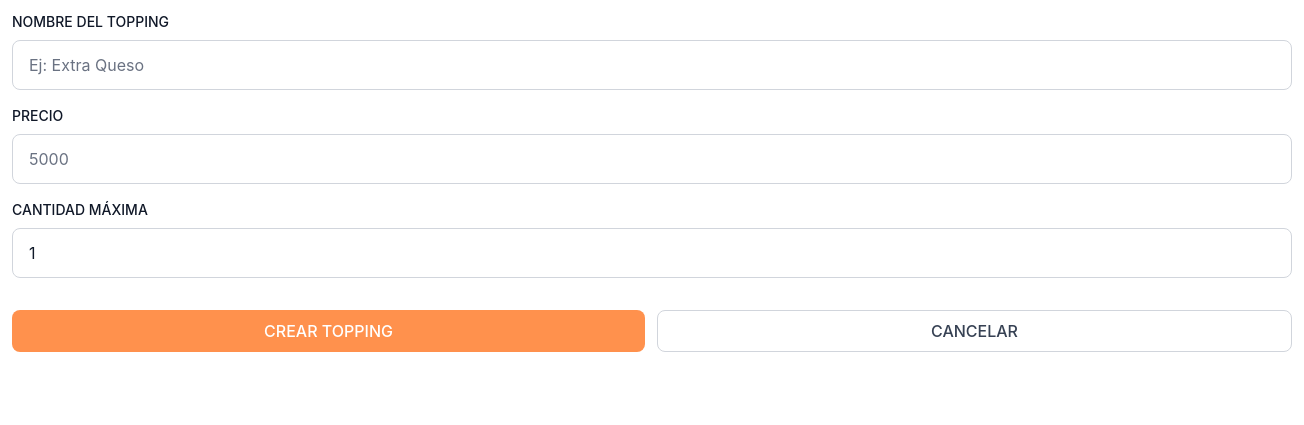
Scenario: CreateToppingForm › should validate minimum name length
Type "AB" into the field labelled "NOMBRE DEL TOPPING". click: (652, 65)
box: [12, 40, 1292, 90]
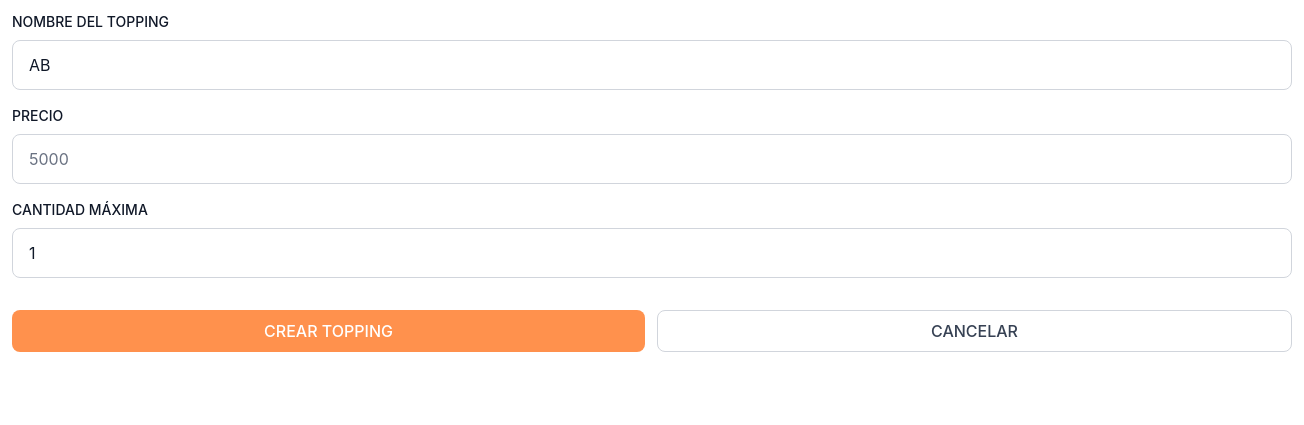
Click the button "CREAR TOPPING". click: (328, 331)
box: [12, 310, 645, 352]
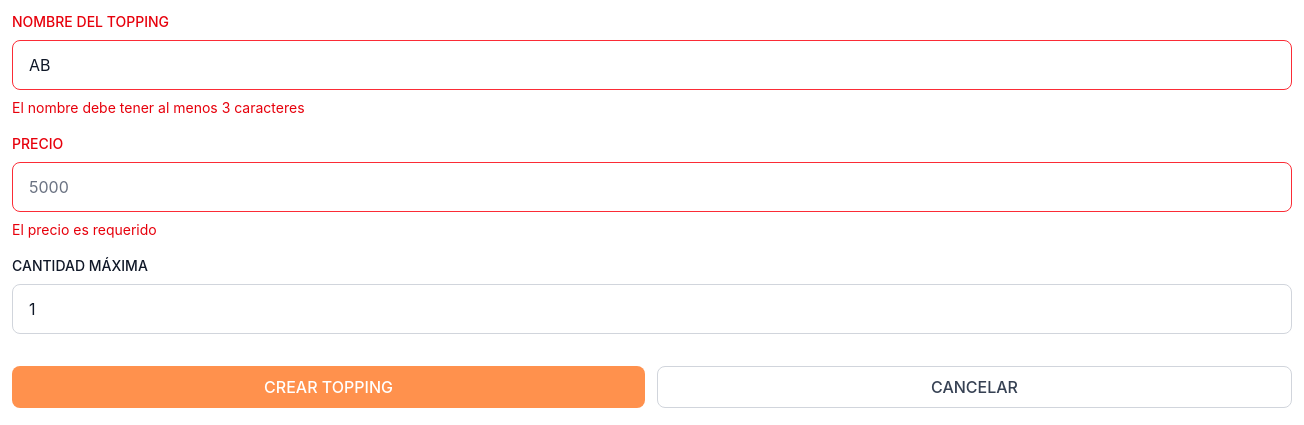
Expected: the text "El nombre debe tener al menos 3 caracteres" is shown, [12, 99, 305, 116]
